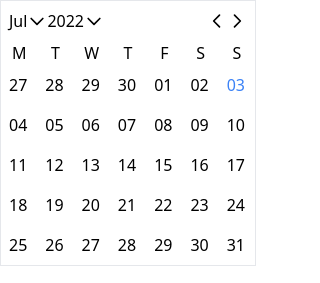
Test: Calendar › changes and displays previous month
What coordinates should you click on to do the following:
click the button with test id "prevMonth"
I would click on:
 (217, 21)
Its box is [207,11,227,31].
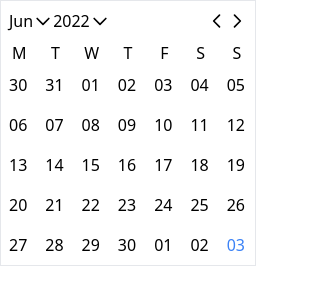
Expected: the heading "Jun 2022" is shown, [9,9,110,33]
